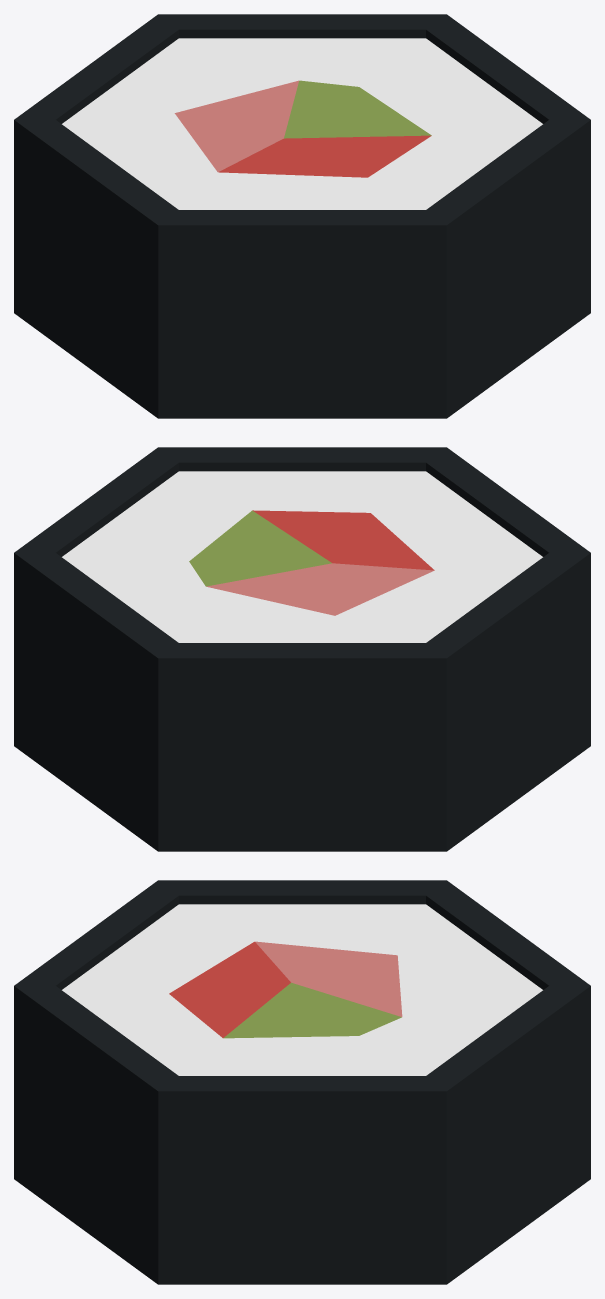
File: Sushi_roll_03.fbx
3 views of the same model, one above another, from view 1: azimuth 30°, elevation 25°; view 2: azimuth 150°, elevation 25°; view 3: azimuth 270°, elevation 25° (orthographic).
Parts seen in each view (by area): view 1: Sushi_roll_03; view 2: Sushi_roll_03; view 3: Sushi_roll_03.
Boxes of the visible parts, x1,y1,x2,y2 form: Sushi_roll_03: (14, 14, 590, 418); Sushi_roll_03: (14, 447, 590, 851); Sushi_roll_03: (14, 880, 590, 1284).
Bounding box in the file's own units: 6.44 × 2.75 × 7.43.
